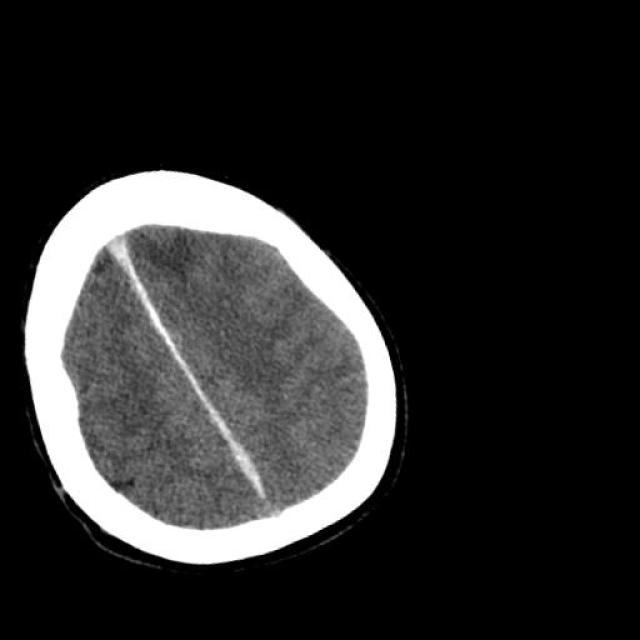Subdural: (95, 206, 297, 520)
